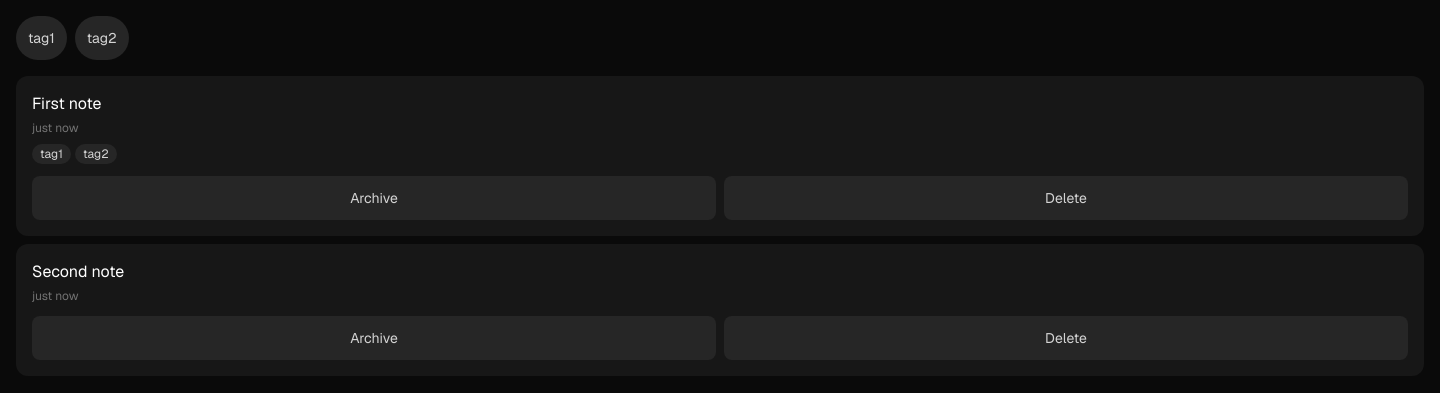
Test case: NotesView › hides confirmation and does not delete on Cancel
Click the 1st button "Delete" at [1066, 198], box [724,176,1408,220]
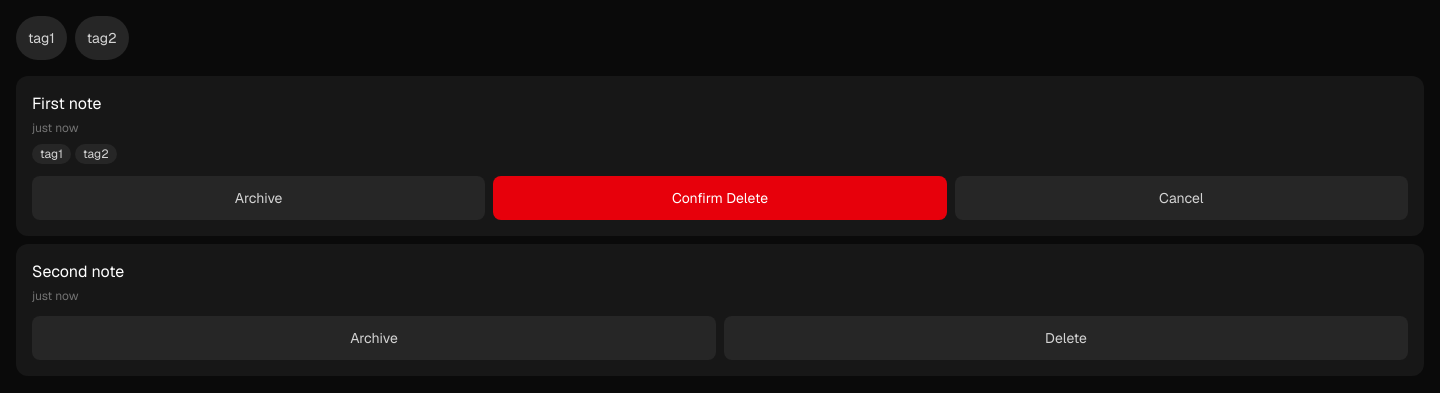
Click the button "Cancel" at [1181, 198], box [955,176,1408,220]
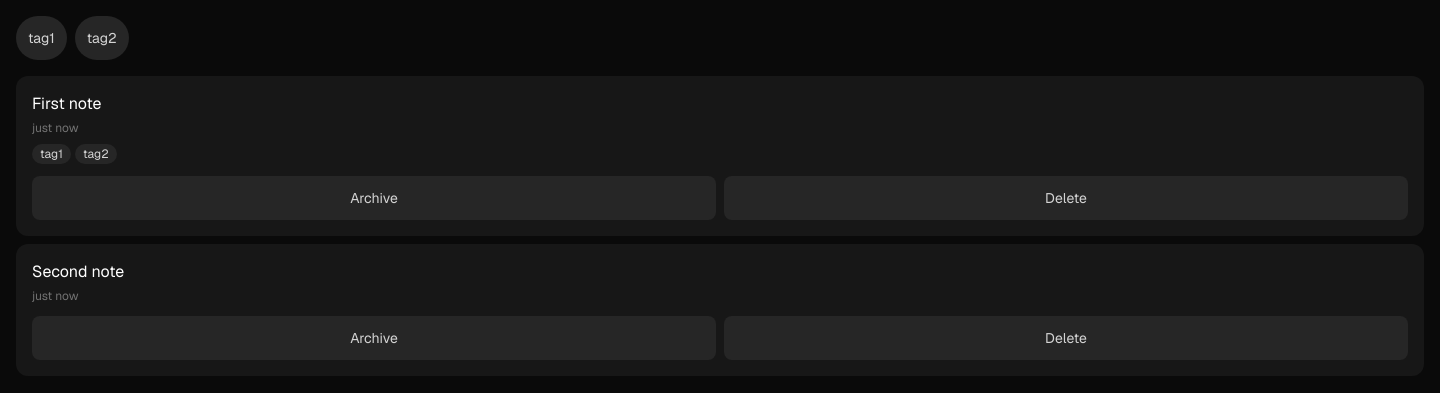
Expected: the button "Confirm Delete" is gone
